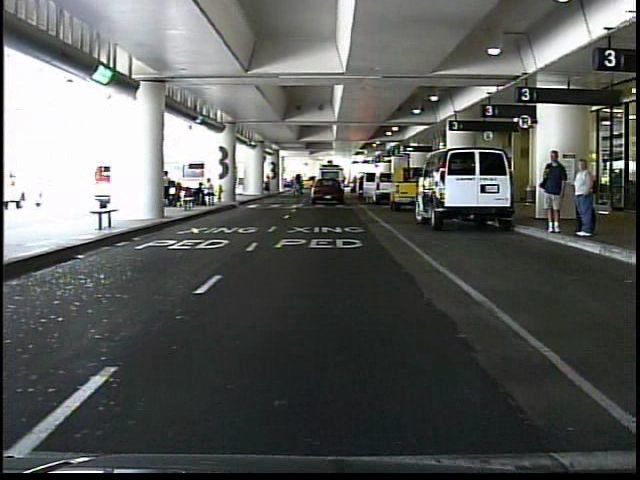person: (568, 152, 601, 242), (540, 146, 569, 236), (348, 169, 363, 201), (264, 169, 276, 194)
